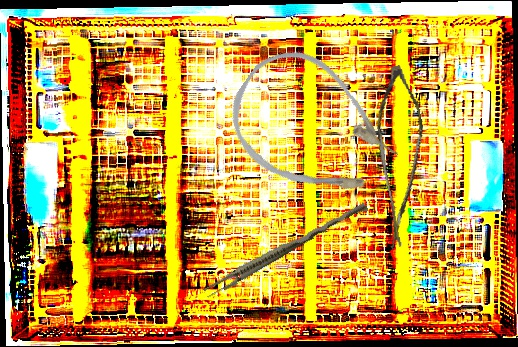Cannula: (210, 31, 417, 227)
Micro Scissor: (357, 63, 446, 253)
Tissue Forceps: (202, 196, 369, 302)
